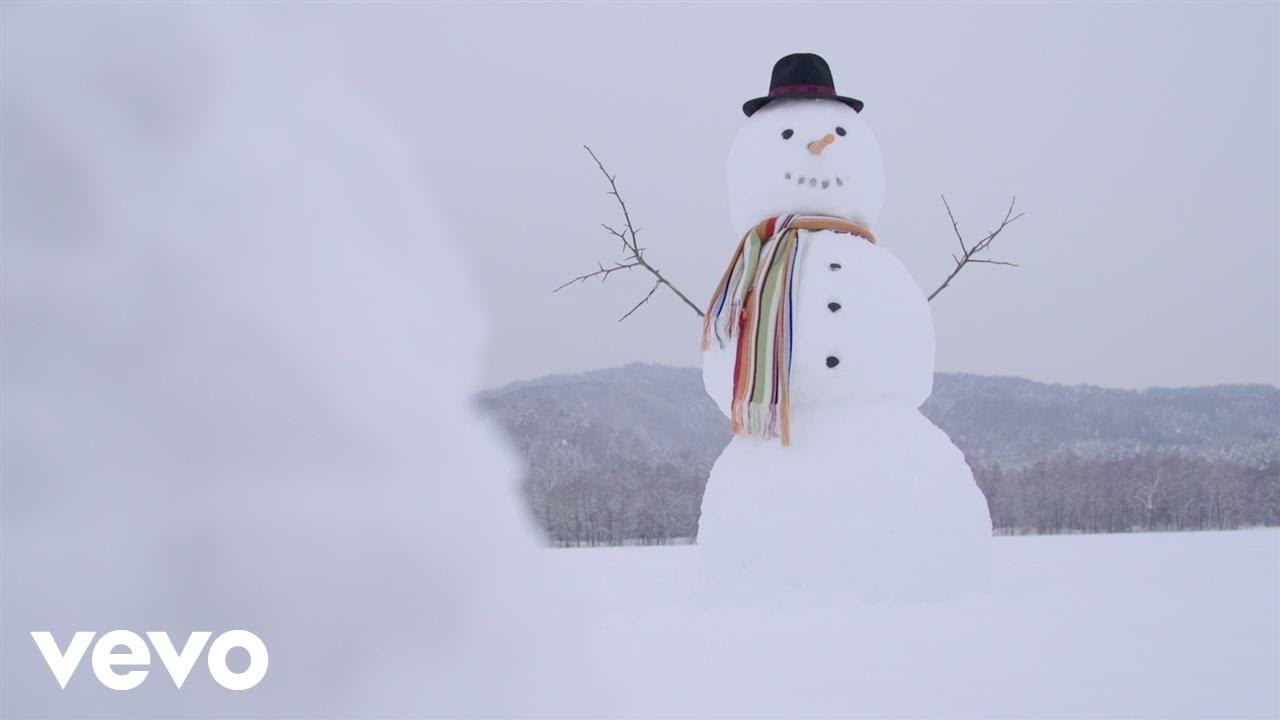person-like: (563, 43, 1012, 549)
